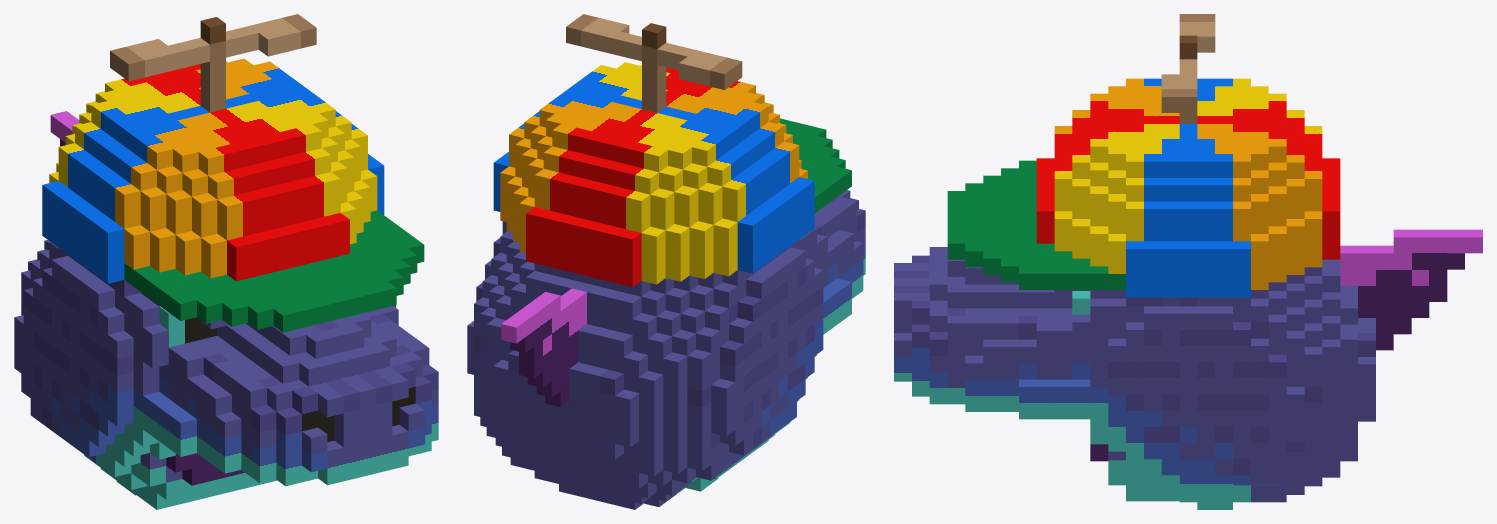
The model's file is rainbow hat.gltf.
3 renders of one model, left to right at view 1: azimuth 30°, elevation 25°; view 2: azimuth 150°, elevation 25°; view 3: azimuth 270°, elevation 25°, orthographic. The views are drawn at different scales.
Visible parts, largest first — view 1: 13_Zilla_Head_Rainbow_Hat-Mesh; view 2: 13_Zilla_Head_Rainbow_Hat-Mesh; view 3: 13_Zilla_Head_Rainbow_Hat-Mesh.
Boxes of the visible parts, x1=… form: 13_Zilla_Head_Rainbow_Hat-Mesh: x1=14, y1=14, x2=438, y2=509; 13_Zilla_Head_Rainbow_Hat-Mesh: x1=467, y1=14, x2=865, y2=509; 13_Zilla_Head_Rainbow_Hat-Mesh: x1=894, y1=14, x2=1482, y2=509.
Size of the model in its own units: 17 by 27 by 33.
Materials: 1 (1 with a texture image).
